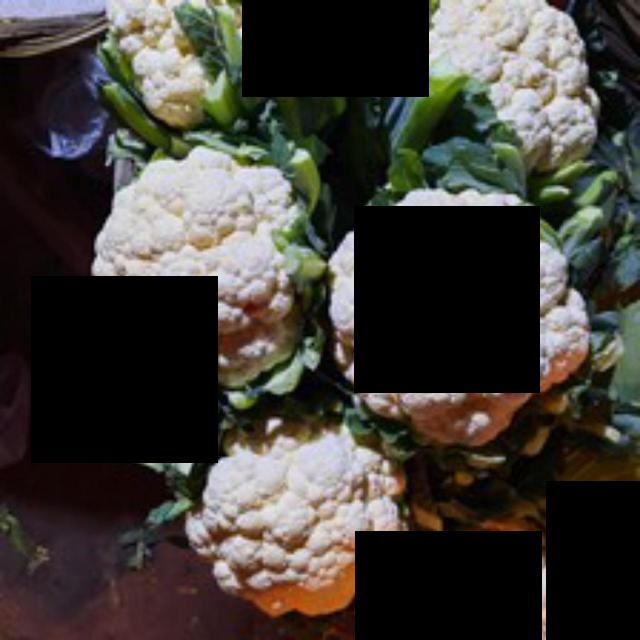cauliflower: (325, 170, 605, 440), (101, 136, 305, 394), (180, 440, 412, 615)
